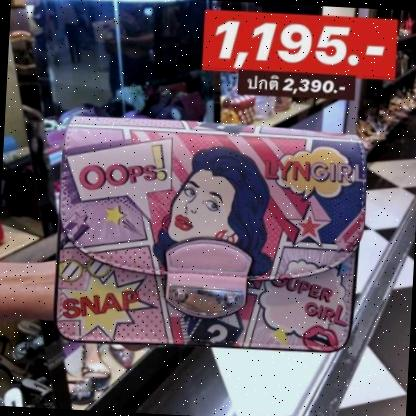bag: (47, 106, 371, 356)
